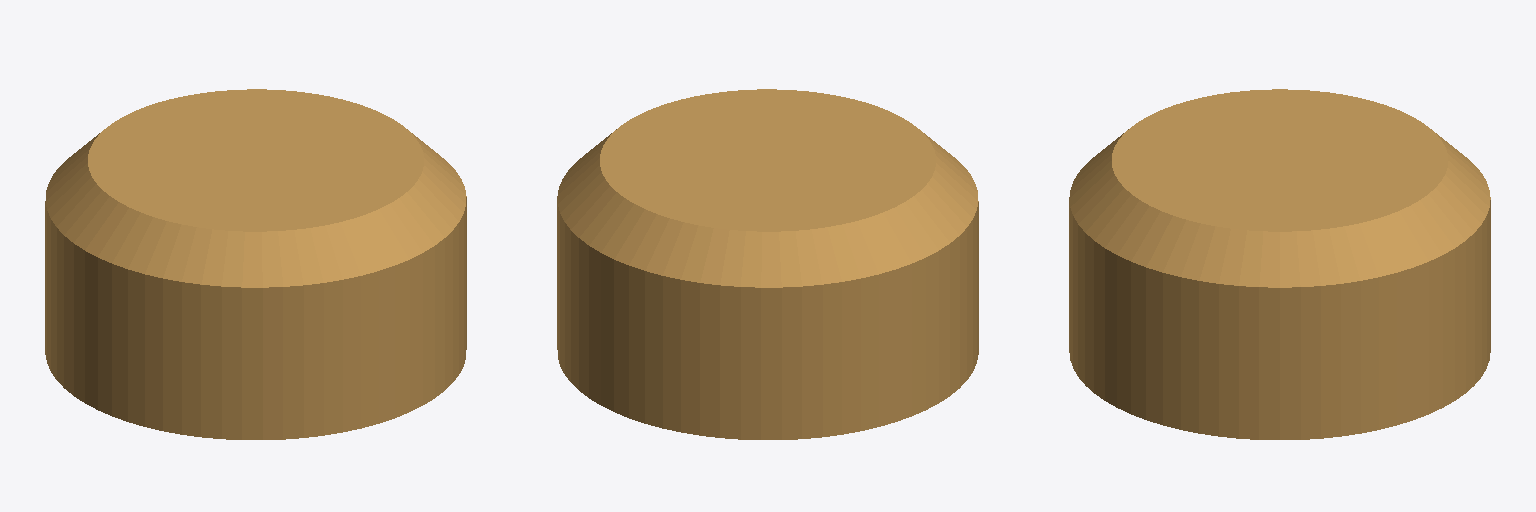
3 renders of one model, left to right at view 1: azimuth 30°, elevation 25°; view 2: azimuth 150°, elevation 25°; view 3: azimuth 270°, elevation 25°, orthographic.
Visible parts, largest first — view 1: RoundButton_0.2_Cylinder.002; view 2: RoundButton_0.2_Cylinder.002; view 3: RoundButton_0.2_Cylinder.002.
Part boxes in pixels (bbox=[...]): RoundButton_0.2_Cylinder.002: bbox=[45, 89, 466, 439]; RoundButton_0.2_Cylinder.002: bbox=[557, 89, 978, 439]; RoundButton_0.2_Cylinder.002: bbox=[1069, 89, 1490, 439].
Size of the model in its own units: 2 by 1 by 2.